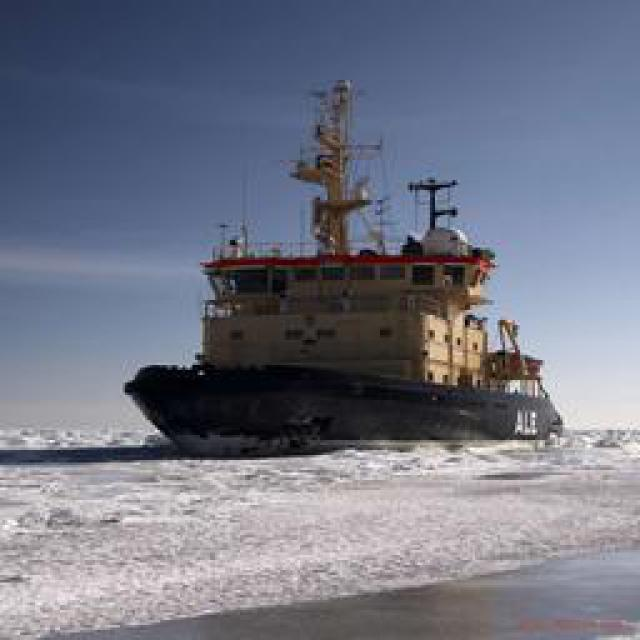Ship: (130, 65, 558, 450)
